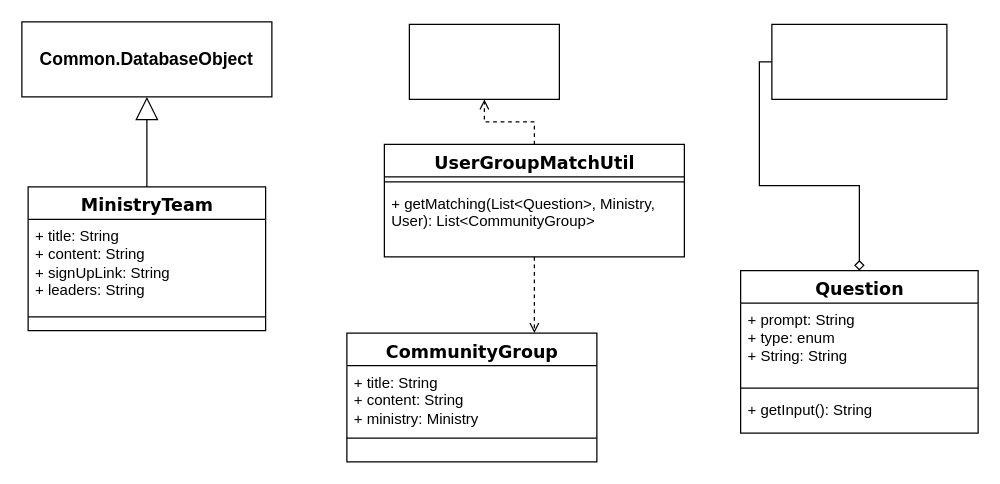
Image size: 1000x484. Some labels were removed from this diagram. Each missing label, with the centre of its shape:
Common.Ministry: [859,61]
Common.User: [483,61]
